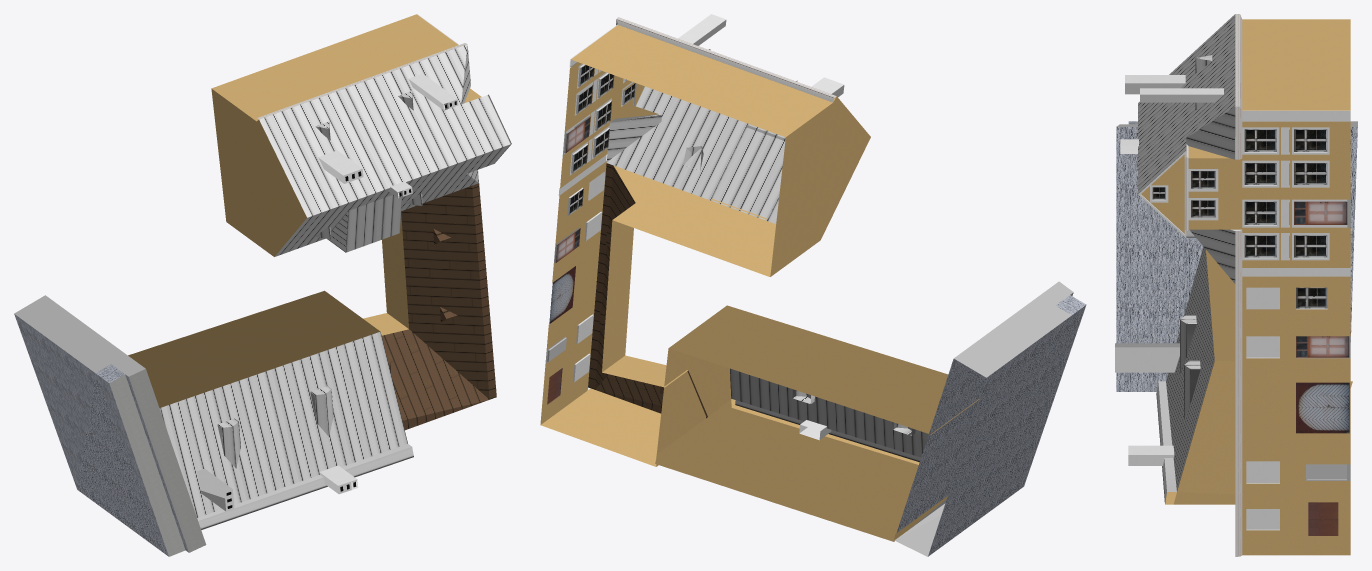
The model's file is Uus_11.obj.
3 views of the same model, side by side, from view 1: azimuth 30°, elevation 25°; view 2: azimuth 150°, elevation 25°; view 3: azimuth 270°, elevation 25° (orthographic). The views are drawn at different scales.
Visible parts, largest first — view 1: uus11, xxx_u11; view 2: uus11, xxx_u11; view 3: uus11.
Part boxes in pixels (x1,y1,x2,y2): uus11: (14, 14, 511, 556); xxx_u11: (14, 295, 145, 376); uus11: (540, 14, 1086, 556); xxx_u11: (894, 281, 1073, 556); uus11: (1115, 14, 1357, 556).
Bounding box in the file's own units: 32.12 × 28.2 × 13.01.
